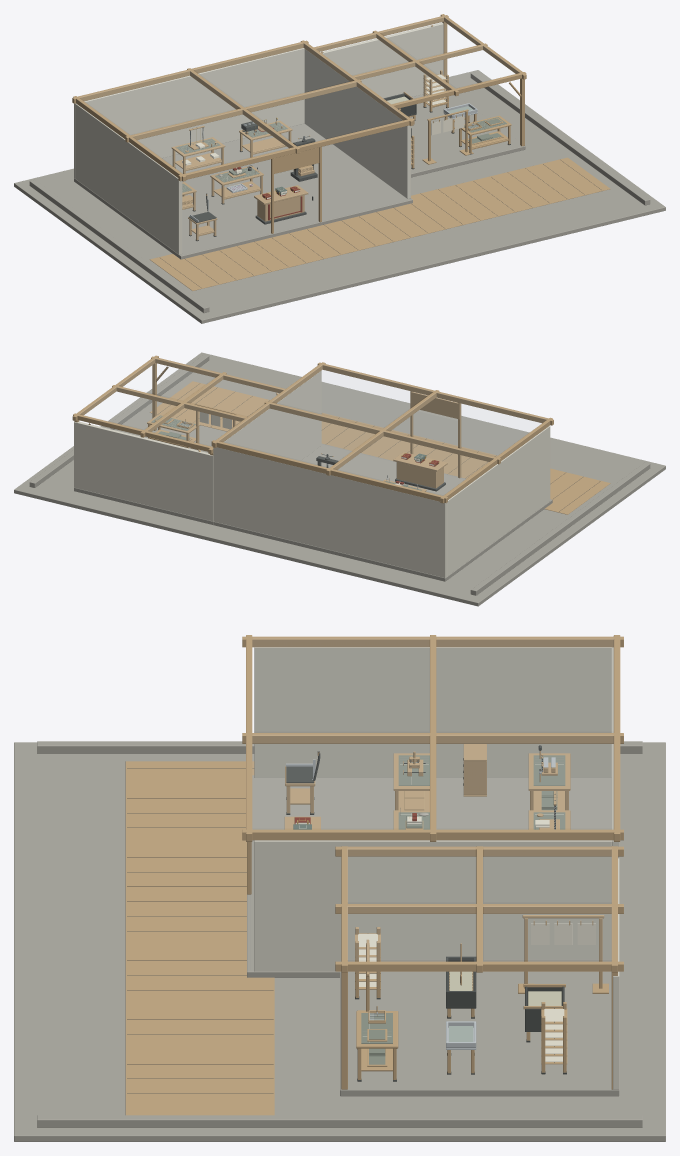
The model's file is bookbinding-and-paper-mill-paper-to-boun-7131e12f-starter-scene__30593.glb.
The picture shows the model from 3 angles, top to bottom: view 1: azimuth 30°, elevation 25°; view 2: azimuth 150°, elevation 25°; view 3: azimuth 270°, elevation 25°; orthographic projection. The views are drawn at different scales.
Parts seen in each view (by area): view 1: 000-bindery-courtyard-base/0, 001-roofed-bindery/1, 000-bindery-courtyard-base/1, 001-roofed-bindery/0, 001-roofed-bindery/3, 002-covered-wet-mill-bay/1, 002-covered-wet-mill-bay/2, 002-covered-wet-mill-bay/0, 022-order-counter/1, 015-sheet-cutting-table/0, 018-sheet-cutting-table/0, 016-sheet-cutting-table/0 (+4 smaller); view 2: 001-roofed-bindery/1, 000-bindery-courtyard-base/0, 001-roofed-bindery/2, 002-covered-wet-mill-bay/1, 001-roofed-bindery/3, 000-bindery-courtyard-base/1, 002-covered-wet-mill-bay/2, 001-roofed-bindery/0, 022-order-counter/1, 002-covered-wet-mill-bay/0, 009-sheet-cutting-table/0; view 3: 000-bindery-courtyard-base/0, 001-roofed-bindery/1, 000-bindery-courtyard-base/1, 002-covered-wet-mill-bay/0, 001-roofed-bindery/3, 001-roofed-bindery/0, 002-covered-wet-mill-bay/2, 000-bindery-courtyard-base/2, 009-sheet-cutting-table/0, 049-repair-tissue-cabinet/0, 069-hanging-paper-rail/1, 014-sheet-cutting-table/0 (+10 smaller).
Part boxes in pixels (bbox=[...]): 000-bindery-courtyard-base/0: bbox=[14, 70, 665, 323]; 001-roofed-bindery/1: bbox=[74, 48, 410, 254]; 000-bindery-courtyard-base/1: bbox=[149, 157, 610, 290]; 001-roofed-bindery/0: bbox=[74, 123, 412, 259]; 001-roofed-bindery/3: bbox=[72, 40, 414, 233]; 002-covered-wet-mill-bay/1: bbox=[320, 22, 443, 98]; 002-covered-wet-mill-bay/2: bbox=[314, 14, 526, 146]; 002-covered-wet-mill-bay/0: bbox=[410, 89, 525, 177]; 022-order-counter/1: bbox=[254, 185, 308, 221]; 015-sheet-cutting-table/0: bbox=[171, 137, 225, 173]; 018-sheet-cutting-table/0: bbox=[210, 166, 263, 203]; 016-sheet-cutting-table/0: bbox=[239, 120, 292, 157]; 001-roofed-bindery/1: bbox=[213, 370, 550, 577]; 000-bindery-courtyard-base/0: bbox=[14, 352, 665, 606]; 001-roofed-bindery/2: bbox=[322, 370, 540, 478]; 002-covered-wet-mill-bay/1: bbox=[74, 421, 213, 521]; 001-roofed-bindery/3: bbox=[211, 362, 553, 503]; 000-bindery-courtyard-base/1: bbox=[150, 381, 610, 514]; 002-covered-wet-mill-bay/2: bbox=[72, 355, 285, 455]; 001-roofed-bindery/0: bbox=[213, 443, 552, 581]; 022-order-counter/1: bbox=[393, 452, 447, 488]; 002-covered-wet-mill-bay/0: bbox=[74, 429, 213, 524]; 009-sheet-cutting-table/0: bbox=[147, 414, 200, 448]; 000-bindery-courtyard-base/0: bbox=[14, 741, 665, 1141]; 001-roofed-bindery/1: bbox=[254, 647, 619, 971]; 000-bindery-courtyard-base/1: bbox=[125, 761, 274, 1115]; 002-covered-wet-mill-bay/0: bbox=[340, 972, 619, 1096]; 001-roofed-bindery/3: bbox=[242, 635, 623, 894]; 001-roofed-bindery/0: bbox=[247, 775, 611, 977]; 002-covered-wet-mill-bay/2: bbox=[335, 846, 623, 1089]; 000-bindery-courtyard-base/2: bbox=[127, 768, 273, 1093]; 009-sheet-cutting-table/0: bbox=[356, 1011, 398, 1079]; 049-repair-tissue-cabinet/0: bbox=[463, 744, 486, 796]; 069-hanging-paper-rail/1: bbox=[531, 923, 595, 944]; 014-sheet-cutting-table/0: bbox=[528, 753, 570, 810].
Bounding box in the file's own units: 20 × 3.63 × 14.
